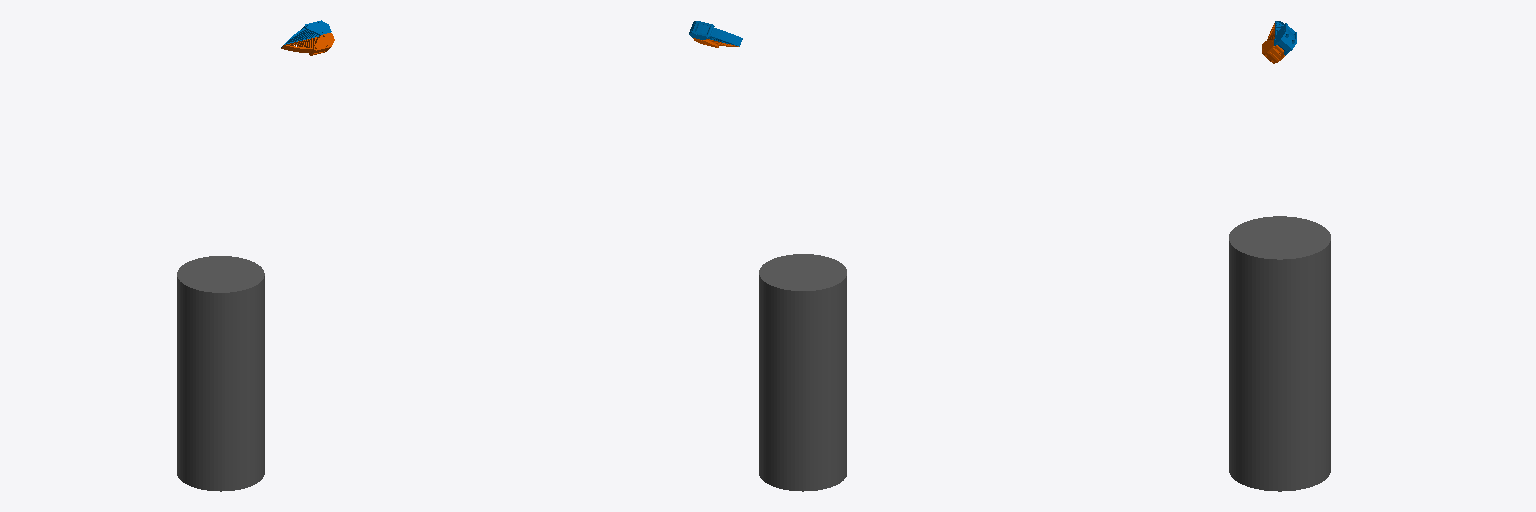
The robot description file, URDF, robot "panda":
<?xml version="1.0" encoding="utf-8"?>
<!-- =================================================================================== -->
<!-- |    This document was autogenerated by xacro from ../../../franka_panda_description/robots/panda_arm.urdf.xacro | -->
<!-- |    EDITING THIS FILE BY HAND IS NOT RECOMMENDED                                 | -->
<!-- =================================================================================== -->
<robot name="panda">
  <material name="panda_white">
    <color rgba="1 1 1 1"/>
  </material>
  <material name="panda_gray">
    <color rgba="0.4 0.4 0.4 1"/>
  </material>
  <material name="silver">
    <color rgba="0.5 0.5 0.5 1"/>
  </material>
  <link name="omron_base_link">
    <contact>
      <stiffness value="1e5"/>
      <damping value="1e3"/>
      <lateral_friction value="0.1"/>
      <rolling_friction value="0.0"/>
    </contact>
    <inertial>
      <mass value="52.9101052160097"/>
      <origin xyz="0 0 0" rpy="1.5708 0.0 0.0"/>
      <inertia ixx="2.78321475990223" ixy="1.02013636219535E-03" ixz="-0.544719331016329" iyy="3.24941132525702" iyz="7.51942241521894E-03" izz="1.33602142044359"/>
    </inertial>
    <visual>
      <origin xyz="0.0 0.0 0.0" rpy="0 0 0"/>
      <geometry>
        <mesh filename="meshes/visual/base.obj"/>
      </geometry>
    </visual>
    <collision>
      <origin xyz="0.0 0.0 0.0" rpy="0 0 0"/>
      <geometry>
        <mesh filename="meshes/collision/base.stl"/>
      </geometry>
    </collision>
  </link>
  <link name="pedestal_link">
    <visual>
      <geometry>
        <mesh filename="meshes/visual/pedestal.obj"/>
      </geometry>
      <material name="panda_gray"/>
    </visual>
    <collision>
      <geometry>
        <mesh filename="meshes/collision/pedestal.stl"/>
      </geometry>
    </collision>
  </link>
  <link name="panda_link0">
    <visual>
      <geometry>
        <mesh filename="meshes/visual/link0.dae"/>
      </geometry>
      <material name="panda_gray"/>
    </visual>
    <collision>
      <geometry>
        <mesh filename="meshes/collision/link0.stl"/>
      </geometry>
    </collision>
  </link>
  <joint name="base_joint0" type="fixed">
    <origin rpy="0 0 0" xyz="0 -0.01 0.2"/>
    <parent link="omron_base_link"/>
    <child link="pedestal_link"/>
    <axis xyz="0 0 0"/>
  </joint>
  <joint name="base_joint1" type="fixed">
    <origin rpy="0 0 0" xyz="0.05 0.02 0.6"/>
    <parent link="pedestal_link"/>
    <child link="panda_link0"/>
    <axis xyz="0 0 0"/>
  </joint>
  <link name="panda_link1">
    <visual>
      <geometry>
        <mesh filename="meshes/visual/link1.dae"/>
      </geometry>
      <material name="panda_white"/>
    </visual>
    <collision>
      <geometry>
        <mesh filename="meshes/collision/link1.stl"/>
      </geometry>
    </collision>
    <inertial>
      <origin rpy="0 0 0" xyz="3.875e-03 2.081e-03 -0.1750"/>
      <mass value="4.970684"/>
      <inertia ixx="7.0337e-01" ixy="-1.3900e-04" ixz="6.7720e-03" iyy="7.0661e-01" iyz="1.9169e-02" izz="9.1170e-03"/>
    </inertial>
  </link>
  <joint name="panda_joint1" type="revolute">
    <safety_controller k_position="100.0" k_velocity="40.0" soft_lower_limit="-2.8973" soft_upper_limit="2.8973"/>
    <origin rpy="0 0 0" xyz="0 0 0.333"/>
    <parent link="panda_link0"/>
    <child link="panda_link1"/>
    <axis xyz="0 0 1"/>
    <limit effort="87" lower="-2.8973" upper="2.8973" velocity="2.1750"/>
    <dynamics damping="10.0" friction="5.0"/>
  </joint>
  <link name="panda_link2">
    <visual>
      <geometry>
        <mesh filename="meshes/visual/link2.dae"/>
      </geometry>
      <material name="panda_white"/>
    </visual>
    <collision>
      <geometry>
        <mesh filename="meshes/collision/link2.stl"/>
      </geometry>
    </collision>
    <inertial>
      <origin rpy="0 0 0" xyz="-3.141e-03 -2.872e-02 3.495e-03"/>
      <mass value="0.646926"/>
      <inertia ixx="7.9620e-03" ixy="-3.9250e-03" ixz="1.0254e-02" iyy="2.8110e-02" iyz="7.0400e-04" izz="2.5995e-02"/>
    </inertial>
  </link>
  <joint name="panda_joint2" type="revolute">
    <safety_controller k_position="100.0" k_velocity="40.0" soft_lower_limit="-1.7628" soft_upper_limit="1.7628"/>
    <origin rpy="-1.57079632679 0 0" xyz="0 0 0"/>
    <parent link="panda_link1"/>
    <child link="panda_link2"/>
    <axis xyz="0 0 1"/>
    <limit effort="87" lower="-1.7628" upper="1.7628" velocity="2.1750"/>
    <dynamics damping="5.0" friction="2.0"/>
  </joint>
  <link name="panda_link3">
    <visual>
      <geometry>
        <mesh filename="meshes/visual/link3.dae"/>
      </geometry>
      <material name="panda_white"/>
    </visual>
    <collision>
      <geometry>
        <mesh filename="meshes/collision/link3.stl"/>
      </geometry>
    </collision>
    <inertial>
      <origin rpy="0 0 0" xyz="2.7518e-02 3.9252e-02 -6.6502e-02"/>
      <mass value="3.228604"/>
      <inertia ixx="3.7242e-02" ixy="-4.7610e-03" ixz="-1.1396e-02" iyy="3.6155e-02" iyz="-1.2805e-02" izz="1.0830e-02"/>
    </inertial>
  </link>
  <joint name="panda_joint3" type="revolute">
    <safety_controller k_position="100.0" k_velocity="40.0" soft_lower_limit="-2.8973" soft_upper_limit="2.8973"/>
    <origin rpy="1.57079632679 0 0" xyz="0 -0.316 0"/>
    <parent link="panda_link2"/>
    <child link="panda_link3"/>
    <axis xyz="0 0 1"/>
    <limit effort="87" lower="-2.8973" upper="2.8973" velocity="2.1750"/>
    <dynamics damping="5.0" friction="2.0"/>
  </joint>
  <link name="panda_link4">
    <visual>
      <geometry>
        <mesh filename="meshes/visual/link4.dae"/>
      </geometry>
      <material name="panda_white"/>
    </visual>
    <collision>
      <geometry>
        <mesh filename="meshes/collision/link4.stl"/>
      </geometry>
    </collision>
    <inertial>
      <origin rpy="0 0 0" xyz="-5.317e-02 1.04419e-01 2.7454e-02"/>
      <mass value="3.587895"/>
      <inertia ixx="2.5853e-02" ixy="7.7960e-03" ixz="-1.3320e-03" iyy="1.9552e-02" iyz="8.6410e-03" izz="2.8323e-02"/>
    </inertial>
  </link>
  <joint name="panda_joint4" type="revolute">
    <safety_controller k_position="100.0" k_velocity="40.0" soft_lower_limit="-3.0718" soft_upper_limit="-0.0698"/>
    <origin rpy="1.57079632679 0 0" xyz="0.0825 0 0"/>
    <parent link="panda_link3"/>
    <child link="panda_link4"/>
    <axis xyz="0 0 1"/>
    <limit effort="87" lower="-3.0718" upper="-0.0698" velocity="2.1750"/>
    <dynamics damping="1.0" friction="0.5"/>
  </joint>
  <link name="panda_link5">
    <visual>
      <geometry>
        <mesh filename="meshes/visual/link5.dae"/>
      </geometry>
      <material name="panda_white"/>
    </visual>
    <collision>
      <geometry>
        <mesh filename="meshes/collision/link5.stl"/>
      </geometry>
    </collision>
    <inertial>
      <origin rpy="0 0 0" xyz="-1.1953e-02 4.1065e-02 -3.8437e-02"/>
      <mass value="1.225946"/>
      <inertia ixx="3.5549e-02" ixy="-2.1170e-03" ixz="-4.0370e-03" iyy="2.9474e-02" iyz="2.2900e-04" izz="8.6270e-03"/>
    </inertial>
  </link>
  <joint name="panda_joint5" type="revolute">
    <safety_controller k_position="100.0" k_velocity="40.0" soft_lower_limit="-2.8973" soft_upper_limit="2.8973"/>
    <origin rpy="-1.57079632679 0 0" xyz="-0.0825 0.384 0"/>
    <parent link="panda_link4"/>
    <child link="panda_link5"/>
    <axis xyz="0 0 1"/>
    <limit effort="12" lower="-2.8973" upper="2.8973" velocity="2.6100"/>
    <dynamics damping="2.0" friction="1.0"/>
  </joint>
  <link name="panda_link6">
    <visual>
      <geometry>
        <mesh filename="meshes/visual/link6.dae"/>
      </geometry>
      <material name="panda_white"/>
    </visual>
    <collision>
      <geometry>
        <mesh filename="meshes/collision/link6.stl"/>
      </geometry>
    </collision>
    <inertial>
      <origin rpy="0 0 0" xyz="6.0149e-02 -1.4117e-02 -1.0517e-02"/>
      <mass value="1.666555"/>
      <inertia ixx="1.9640e-03" ixy="1.0900e-04" ixz="-1.1580e-03" iyy="4.3540e-03" iyz="3.4100e-04" izz="5.4330e-03"/>
    </inertial>
  </link>
  <joint name="panda_joint6" type="revolute">
    <safety_controller k_position="100.0" k_velocity="40.0" soft_lower_limit="-0.0175" soft_upper_limit="3.7525"/>
    <origin rpy="1.57079632679 0 0" xyz="0 0 0"/>
    <parent link="panda_link5"/>
    <child link="panda_link6"/>
    <axis xyz="0 0 1"/>
    <limit effort="12" lower="-0.0175" upper="3.7525" velocity="2.6100"/>
    <dynamics damping="1.0" friction="0.5"/>
  </joint>
  <link name="panda_link7">
    <visual>
      <geometry>
        <mesh filename="meshes/visual/link7.dae"/>
      </geometry>
      <material name="panda_gray"/>
    </visual>
    <collision>
      <geometry>
        <mesh filename="meshes/collision/link7.stl"/>
      </geometry>
    </collision>
    <inertial>
      <origin rpy="0 0 0" xyz="1.0517e-02 -4.252e-03 6.1597e-02"/>
      <mass value="7.35522e-01"/>
      <inertia ixx="1.2516e-02" ixy="-4.2800e-04" ixz="-1.1960e-03" iyy="1.0027e-02" iyz="-7.4100e-04" izz="4.8150e-03"/>
    </inertial>
  </link>
  <joint name="panda_joint7" type="revolute">
    <safety_controller k_position="100.0" k_velocity="40.0" soft_lower_limit="-2.8973" soft_upper_limit="2.8973"/>
    <origin rpy="1.57079632679 0 0" xyz="0.088 0 0"/>
    <parent link="panda_link6"/>
    <child link="panda_link7"/>
    <axis xyz="0 0 1"/>
    <limit effort="12" lower="-2.8973" upper="2.8973" velocity="2.6100"/>
    <dynamics damping="1.0" friction="0.5"/>
  </joint>
  <link name="panda_link8">
    <inertial>
      <origin rpy="0 0 0" xyz="0 0 0"/>
      <mass value="0.0"/>
      <inertia ixx="0.001" ixy="0.0" ixz="0.0" iyy="0.001" iyz="0.0" izz="0.001"/>
    </inertial>
  </link>
  <joint name="panda_joint8" type="fixed">
    <origin rpy="0 0 0" xyz="0 0 0.107"/>
    <parent link="panda_link7"/>
    <child link="panda_link8"/>
    <axis xyz="0 0 0"/>
  </joint>
  <joint name="panda_hand_joint" type="fixed">
    <parent link="panda_link8"/>
    <child link="panda_hand"/>
    <origin rpy="0 0 -0.785398163397" xyz="0 0 0"/>
  </joint>
  <link name="panda_hand">
    <visual>
      <origin rpy="0 0 0" xyz="0 0 0"/>
      <geometry>
        <mesh filename="meshes/visual/hand.dae"/>
      </geometry>
    </visual>
    <collision>
      <origin rpy="0 0 0" xyz="0 0 0"/>
      <geometry>
        <mesh filename="meshes/collision/hand.stl"/>
      </geometry>
    </collision>
  </link>
  <link name="panda_leftfinger">
    <visual>
      <origin rpy="0 0 0" xyz="0 0 0"/>
      <geometry>
        <mesh filename="meshes/visual/umi_finger.obj"/>
      </geometry>
    </visual>
    <collision>
      <geometry>
        <mesh filename="meshes/collision/umi_finger.stl"/>
      </geometry>
    </collision>
  </link>
  <link name="panda_rightfinger">
    <visual>
      <origin rpy="0 0 3.1415927" xyz="0 0 0"/>
      <geometry>
        <mesh filename="meshes/visual/umi_finger.obj"/>
      </geometry>
    </visual>
    <collision>
      <geometry>
        <mesh filename="meshes/collision/umi_finger.stl"/>
      </geometry>
    </collision>
  </link>
  <joint name="panda_finger_joint1" type="prismatic">
    <parent link="panda_hand"/>
    <child link="panda_leftfinger"/>
    <origin rpy="-1.5708 0 -1.5708" xyz="0 0 -0.01"/>
    <axis xyz="1 0 0"/>
    <limit effort="10" lower="-0.001" upper="0.04" velocity="0.3"/>
  </joint>
  <joint name="panda_finger_joint2" type="prismatic">
    <parent link="panda_hand"/>
    <child link="panda_rightfinger"/>
    <origin rpy="1.5708 0 -1.5708" xyz="0 0 -0.01"/>
    <axis xyz="-1 0 0"/>
    <limit effort="10" lower="-0.001" upper="0.04" velocity="0.3"/>
  </joint>
</robot>

--- Facts derived from the render (not from the file) ---
The picture shows the robot from 3 angles, left to right: view 1: azimuth 30°, elevation 25°; view 2: azimuth 150°, elevation 25°; view 3: azimuth 270°, elevation 25°; orthographic projection.
Robot: panda — 14 links, 13 joints (7 revolute, 2 prismatic, 4 fixed); root link omron_base_link; default pose: all joints at 0 but 1 set to mid-range because 0 is outside their limits (panda_joint4 = -1.57).
Links seen in each view (by area): view 1: pedestal_link, panda_rightfinger; view 2: pedestal_link, panda_leftfinger; view 3: pedestal_link, panda_leftfinger.
Link boxes in pixels (x1,y1,x2,y2): pedestal_link: (177, 256, 264, 491); panda_rightfinger: (281, 33, 334, 55); pedestal_link: (759, 254, 846, 491); panda_leftfinger: (689, 21, 742, 46); pedestal_link: (1229, 216, 1330, 491); panda_leftfinger: (1274, 21, 1296, 55).
Size in the robot's own frame: 0.4628 by 0.2399 by 1.29 metres.
Meshes: 12 distinct files referenced, 3 mesh visuals loaded (2 OBJ); not drawn: 10 (reference not matched to a file when rendering).